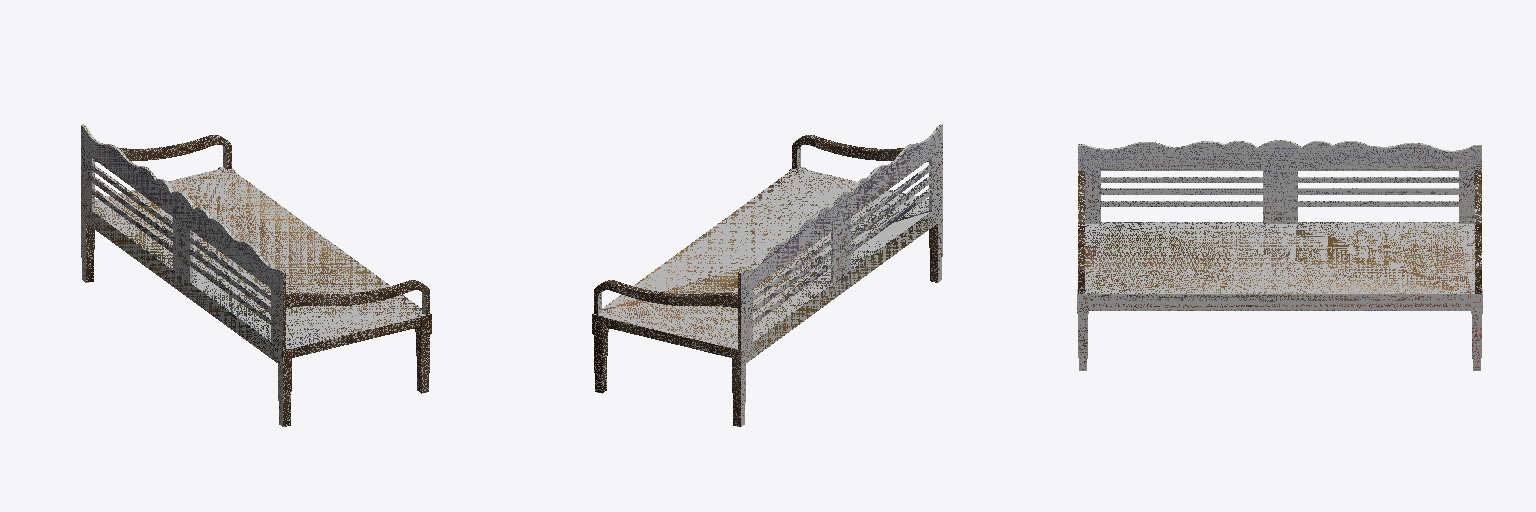
3 views of the same model, side by side, from view 1: azimuth 30°, elevation 25°; view 2: azimuth 150°, elevation 25°; view 3: azimuth 270°, elevation 25° (orthographic).
Parts seen in each view (by area): view 1: mesh1.001_mesh1-geometry; view 2: mesh1.001_mesh1-geometry; view 3: mesh1.001_mesh1-geometry.
Part boxes in pixels (x1,y1,x2,y2): mesh1.001_mesh1-geometry: (81,124,431,426); mesh1.001_mesh1-geometry: (592,124,942,426); mesh1.001_mesh1-geometry: (1077,140,1482,370).
Bounding box in the file's own units: 0.3607 × 0.3709 × 0.8558.
23 materials, 22 textured.